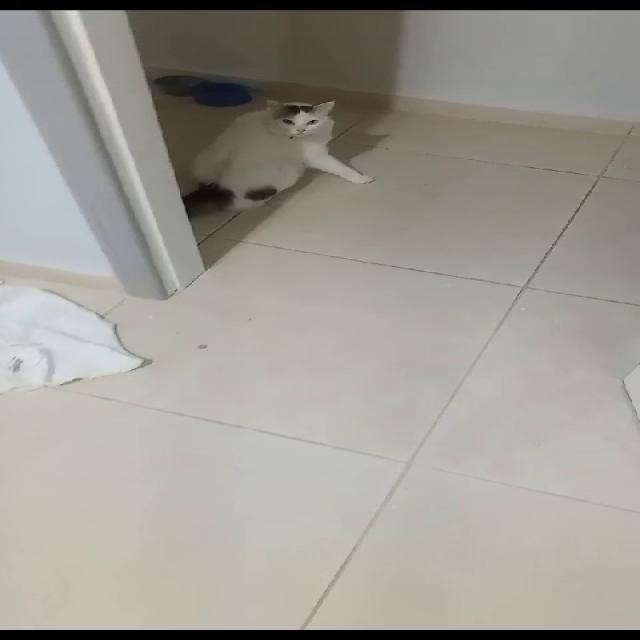Simba: (215, 97, 386, 227)
